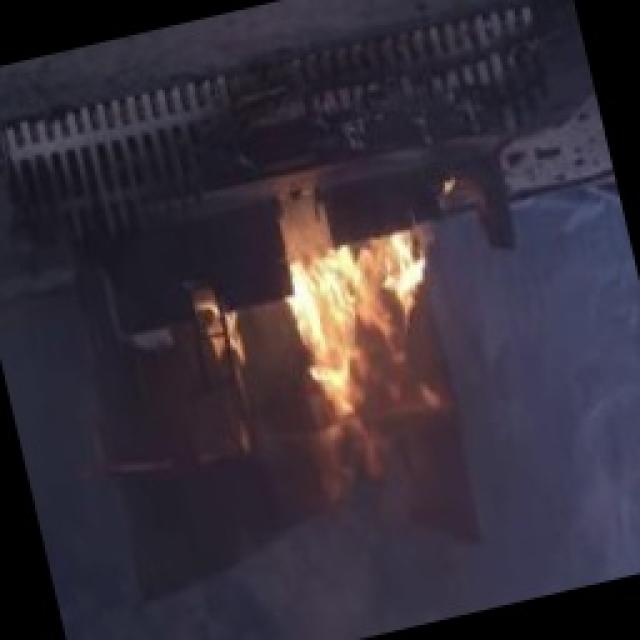fire: (250, 216, 465, 494)
